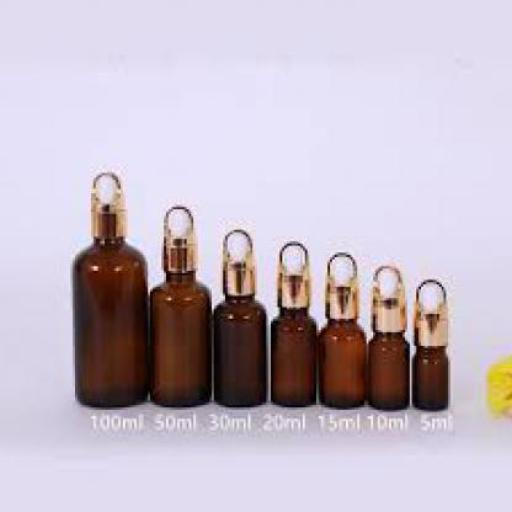glass: (73, 237, 145, 403), (150, 271, 209, 402), (214, 296, 264, 403), (316, 314, 370, 405), (268, 306, 314, 402), (366, 328, 408, 407), (410, 342, 448, 406)
metal: (220, 230, 258, 296), (369, 260, 405, 327), (89, 171, 125, 236), (323, 247, 355, 319), (161, 207, 196, 271), (414, 278, 446, 346), (278, 241, 304, 305)
